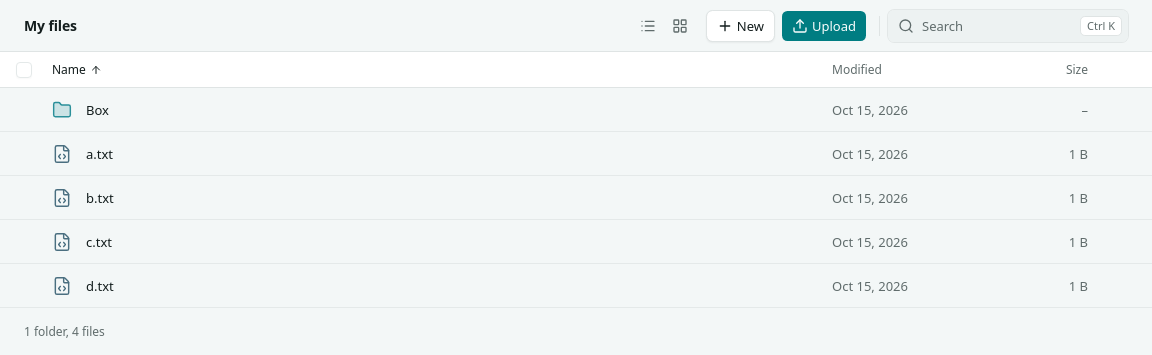
Test: right-click on a selected item offers the bulk menu
Expected: the text "a.txt" is shown, [86,144,113,164]
Click the text "a.txt" at (576,154), box [0,132,1151,176]
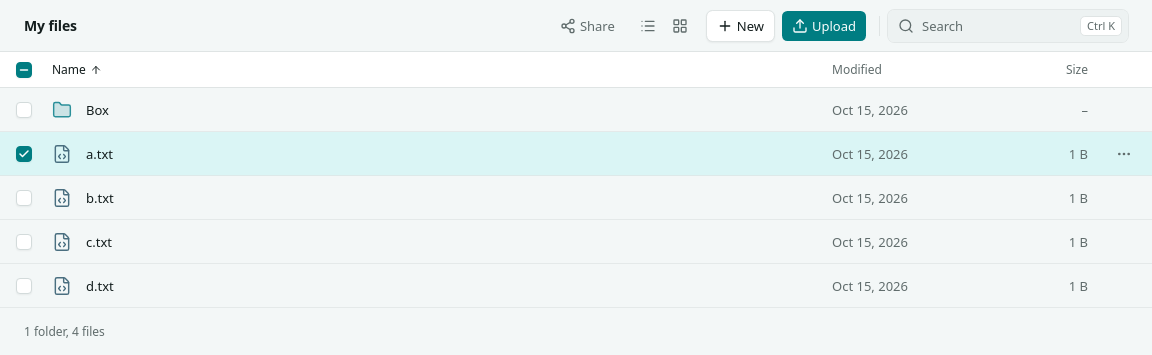
Click the text "b.txt" at (576,198), box [0,176,1151,220]
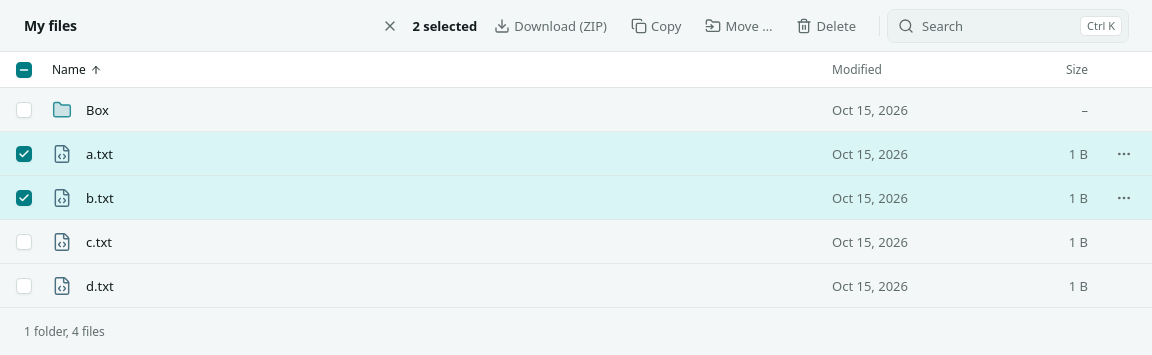
Right-click the text "a.txt" at (576,154), box [0,132,1151,176]
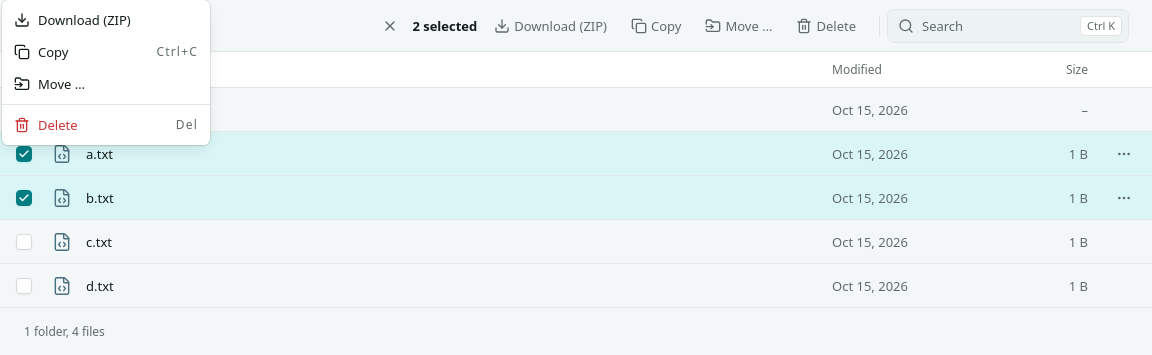
Expected: the menu item "Download (ZIP)" is shown, [14,11,131,29]
